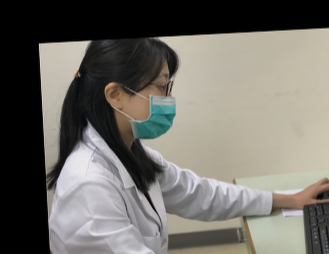with_mask: (122, 70, 175, 139)
